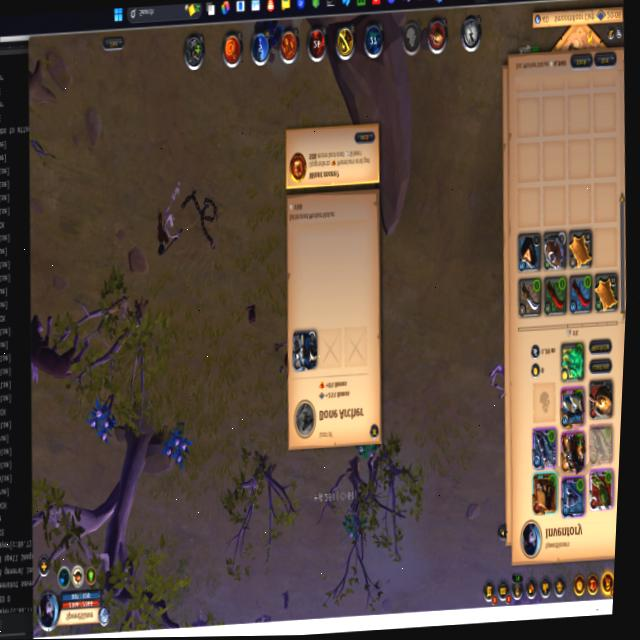hide: (86, 391, 120, 447), (162, 420, 194, 472), (341, 507, 362, 543), (354, 444, 379, 460)
mob: (483, 357, 508, 404)
ore: (28, 306, 97, 390), (149, 179, 187, 260)
